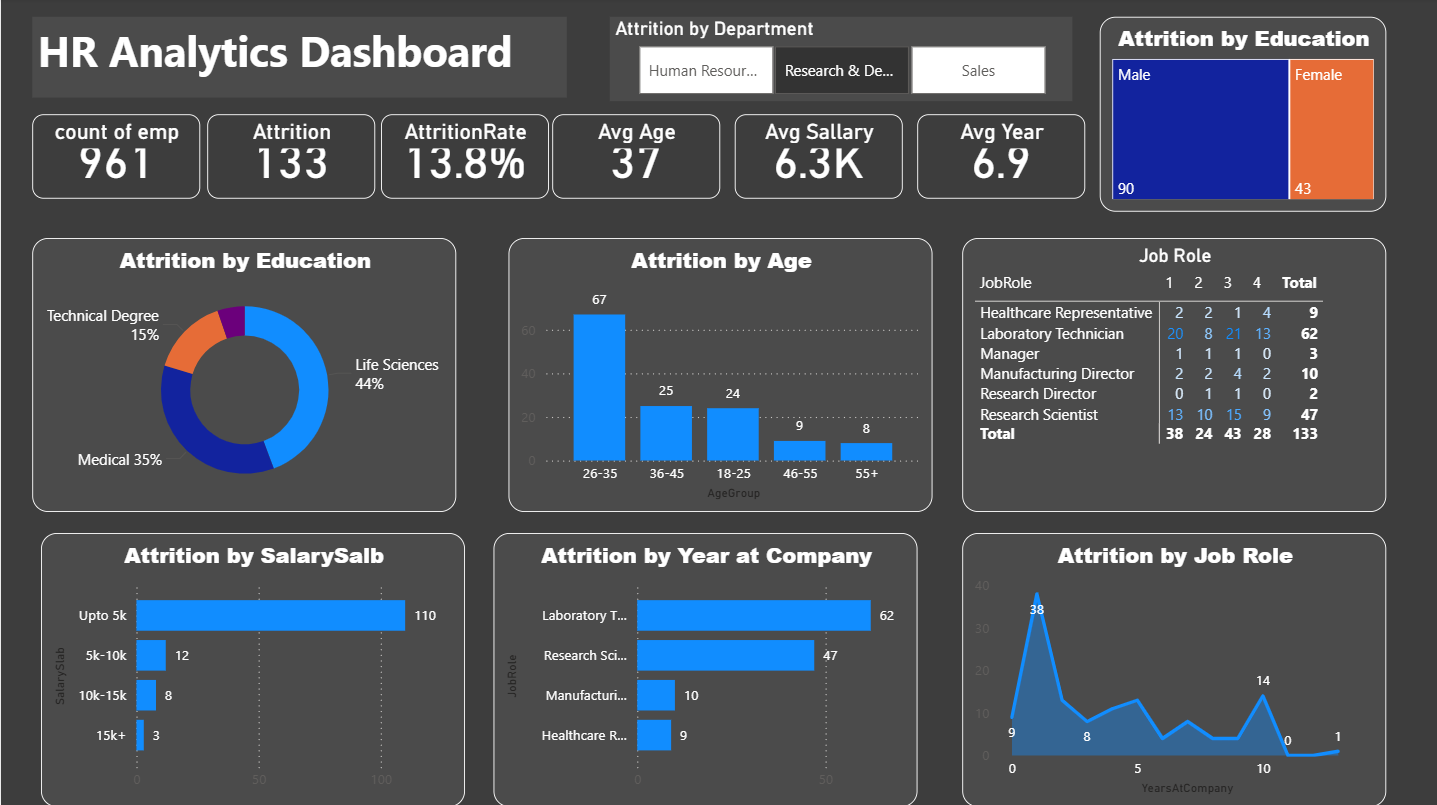

This screenshot's page, from the dashboard's own definition file:
{"tool":"powerbi","page":{"name":"Page 1","canvas":[1280,720],"ordinal":0},"visuals":[{"type":"card","title":"count of emp","fields":{"Values":["CountNonNull(HR_Analytics.EmpID)"]},"box":[28.3,103.9,149.3,75.6],"z":0},{"type":"card","title":"Avg Age","fields":{"Values":["Avg(HR_Analytics.Age)"]},"box":[491.3,103.9,149.3,75.6],"z":1000},{"type":"card","title":"Attrition","fields":{"Values":["Sum(HR_Analytics.Attritionount)"]},"box":[183.3,103.9,149.3,75.6],"z":2000},{"type":"card","title":"AttritionRate","fields":{"Values":["HR_Analytics.AttritionRate"]},"box":[338.3,103.9,149.3,75.6],"z":3000},{"type":"card","title":"Avg Year","fields":{"Values":["Avg(HR_Analytics.YearsAtCompany)"]},"box":[816.4,103.9,149.3,75.6],"z":4000},{"type":"card","title":"Avg Sallary","fields":{"Values":["Avg(HR_Analytics.MonthlyIncome)"]},"box":[653.9,103.9,149.3,75.6],"z":5000},{"type":"donutChart","title":"Attrition by Education","fields":{"Category":["HR_Analytics.EducationField"],"Y":["Sum(HR_Analytics.Attritionount)"]},"box":[28.3,213.5,378,243.8],"z":6000},{"type":"columnChart","title":"Attrition by Age","fields":{"Category":["HR_Analytics.AgeGroup"],"Y":["Sum(HR_Analytics.Attritionount)"]},"box":[451.7,213.5,378,243.8],"z":7000},{"type":"pivotTable","title":"Job Role","fields":{"Rows":["HR_Analytics.JobRole"],"Columns":["HR_Analytics.JobSatisfaction"],"Values":["Sum(HR_Analytics.Attritionount)"]},"box":[856.1,213.5,378,243.8],"z":8000},{"type":"barChart","title":"Attrition by SalarySalb","fields":{"Category":["HR_Analytics.SalarySlab"],"Y":["Sum(HR_Analytics.Attritionount)"]},"box":[35.9,476.2,378,243.8],"z":9000},{"type":"barChart","title":"Attrition by Year at Company","fields":{"Category":["HR_Analytics.JobRole"],"Y":["Sum(HR_Analytics.Attritionount)"]},"box":[438.4,476.2,378,243.8],"z":10000},{"type":"areaChart","title":"Attrition by Job Role","fields":{"Category":["HR_Analytics.YearsAtCompany"],"Y":["Sum(HR_Analytics.Attritionount)"]},"box":[856.1,476.2,378,243.8],"z":12000},{"type":"treemap","title":"Attrition by Education","fields":{"Group":["HR_Analytics.Gender"],"Values":["Sum(HR_Analytics.Attritionount)"]},"box":[978.9,17,255.1,173.9],"z":13000},{"type":"slicer","title":"Attrition by  Department","fields":{"Values":["HR_Analytics.Department"]},"box":[542.4,17,412,75.6],"z":14000},{"type":"textbox","box":[28.3,17,476.2,71.8],"z":15000}]}

Visuals, with their boxes in screenshot pixels (x1, y1, x2, y2), scaled from the page's 1280x720 canvas onto the 1437x805 screenshot:
"count of emp" card: <region>32, 116, 199, 201</region>
"Avg Age" card: <region>552, 116, 719, 201</region>
"Attrition" card: <region>206, 116, 373, 201</region>
"AttritionRate" card: <region>380, 116, 547, 201</region>
"Avg Year" card: <region>917, 116, 1084, 201</region>
"Avg Sallary" card: <region>734, 116, 902, 201</region>
"Attrition by Education" donutChart: <region>32, 239, 456, 511</region>
"Attrition by Age" columnChart: <region>507, 239, 931, 511</region>
"Job Role" pivotTable: <region>961, 239, 1385, 511</region>
"Attrition by SalarySalb" barChart: <region>40, 532, 465, 804</region>
"Attrition by Year at Company" barChart: <region>492, 532, 917, 804</region>
"Attrition by Job Role" areaChart: <region>961, 532, 1385, 804</region>
"Attrition by Education" treemap: <region>1099, 19, 1385, 213</region>
"Attrition by  Department" slicer: <region>609, 19, 1071, 104</region>
textbox: <region>32, 19, 566, 99</region>
